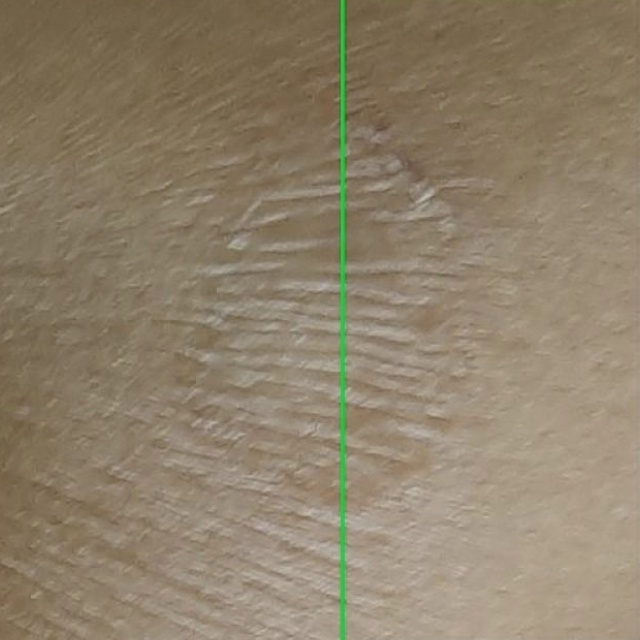Tinea Corporis: (341, 0, 639, 639)
